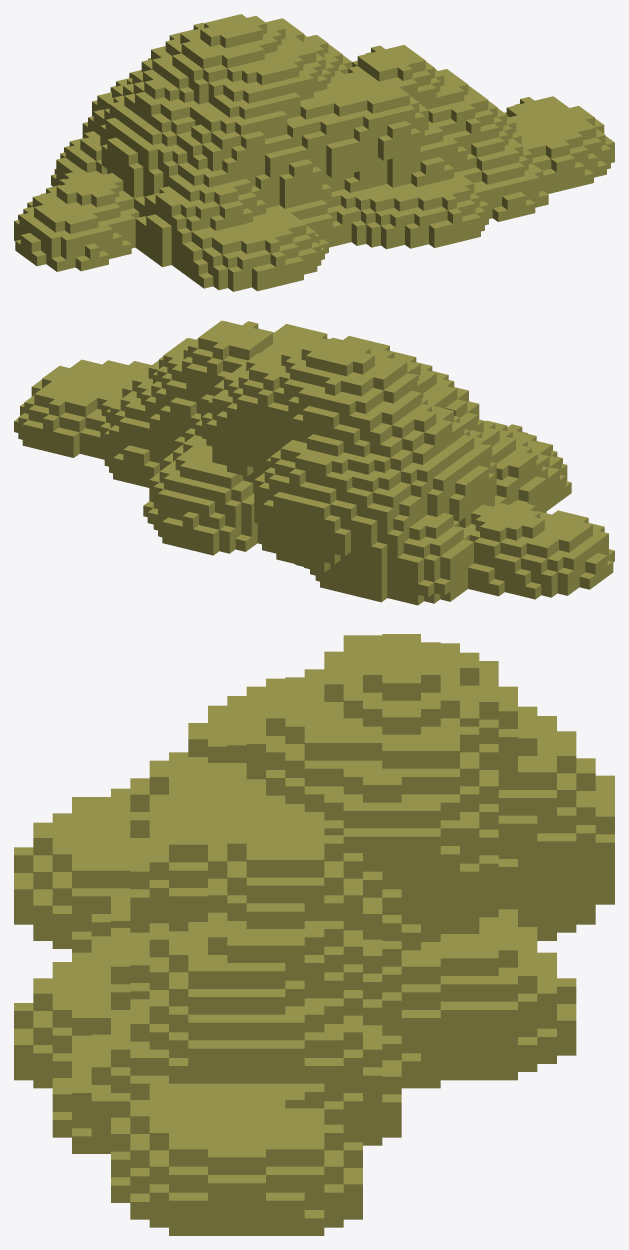
File: forest1.4-35.obj
The picture shows the model from 3 angles, top to bottom: view 1: azimuth 30°, elevation 25°; view 2: azimuth 150°, elevation 25°; view 3: azimuth 270°, elevation 25°; orthographic projection. The views are drawn at different scales.
Bounding box in the file's own units: 5.8 × 1.7 × 3.1.
1 material, 1 textured.
